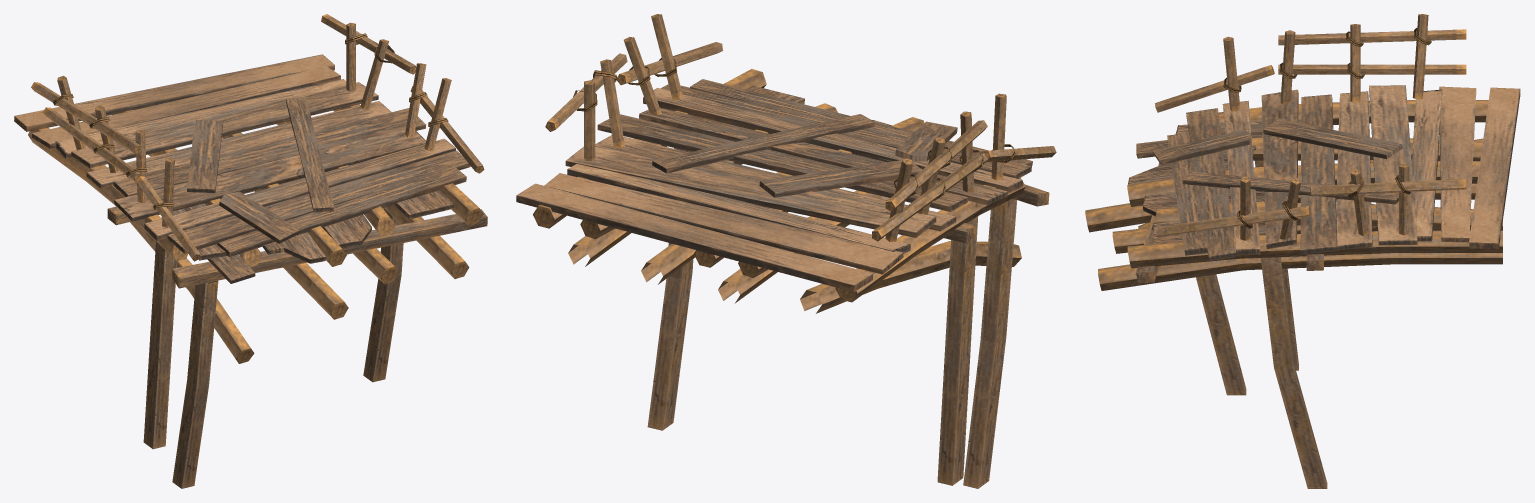
Rendered from Item_5008_shitou_muqiao01.FBX.
The picture shows the model from 3 angles, left to right: view 1: azimuth 30°, elevation 25°; view 2: azimuth 150°, elevation 25°; view 3: azimuth 270°, elevation 25°; orthographic projection. The views are drawn at different scales.
Parts seen in each view (by area): view 1: Item_5008_shitou_muqiao01; view 2: Item_5008_shitou_muqiao01; view 3: Item_5008_shitou_muqiao01.
Boxes of the visible parts, x1=… form: Item_5008_shitou_muqiao01: x1=14, y1=14, x2=487, y2=488; Item_5008_shitou_muqiao01: x1=516, y1=14, x2=1056, y2=488; Item_5008_shitou_muqiao01: x1=1085, y1=14, x2=1520, y2=488.
Size of the model in its own units: 519 by 547 by 596.
